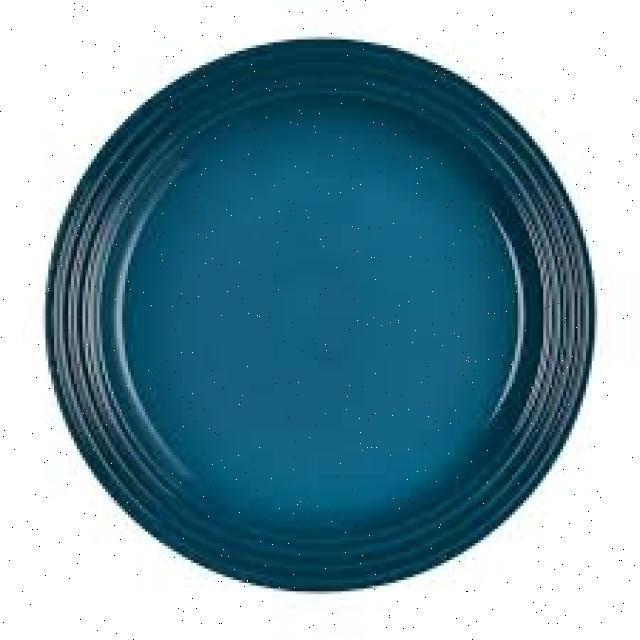plate: (36, 28, 604, 606)
